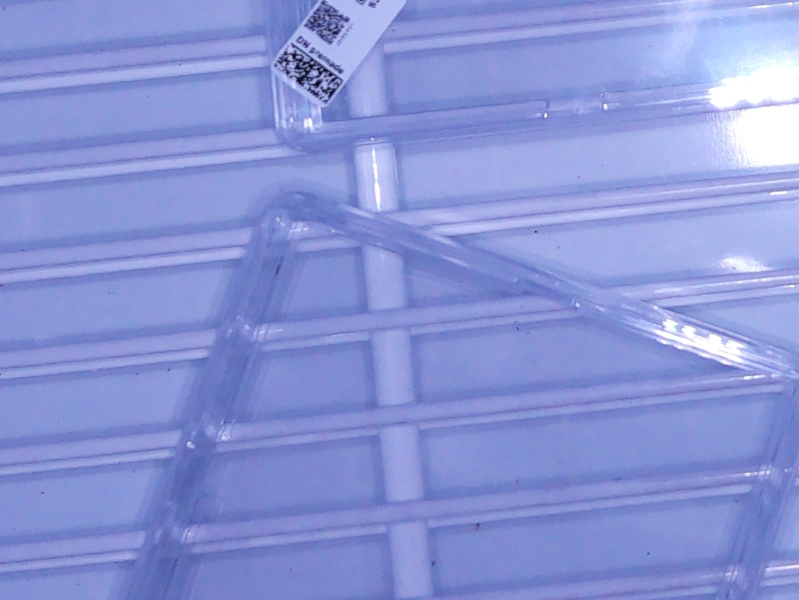plate: (112, 189, 799, 600), (265, 1, 799, 155)
